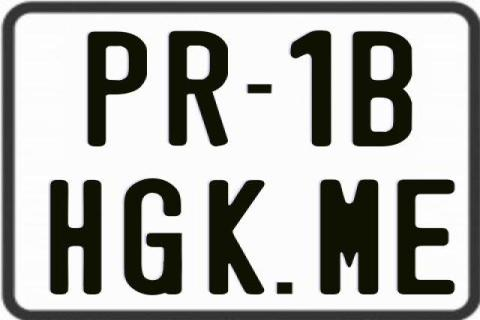0: (287, 29, 331, 145)
B: (353, 30, 414, 148)
E: (394, 177, 453, 293)
G: (123, 176, 184, 293)
H: (48, 177, 101, 297)
K: (207, 180, 264, 298)
M: (318, 178, 377, 294)
P: (85, 31, 146, 146)
R: (169, 31, 231, 147)
